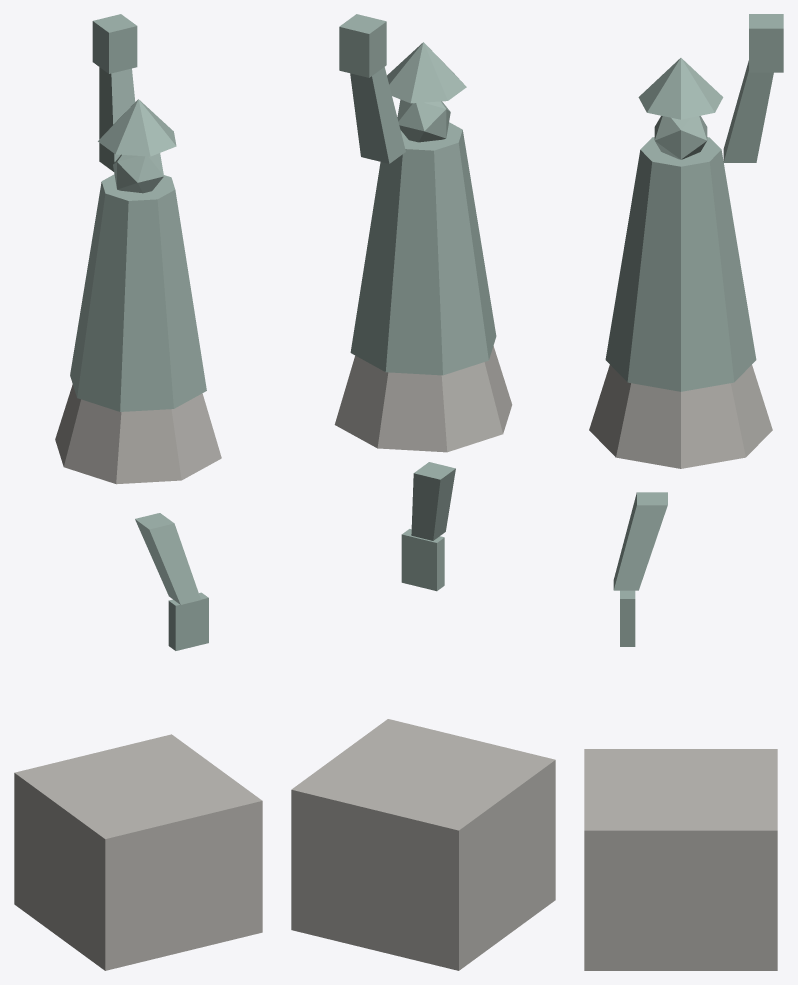
3 renders of one model, left to right at view 1: azimuth 30°, elevation 25°; view 2: azimuth 150°, elevation 25°; view 3: azimuth 270°, elevation 25°, orthographic. The views are drawn at different scales.
Visible parts, largest first — view 1: part0, part2, part1, part7, part4, part6, part5, part8, part3; view 2: part0, part2, part1, part5, part4, part7, part6, part8, part3; view 3: part0, part2, part1, part4, part7, part5, part6, part3, part8.
Boxes of the visible parts, x1,y1,x2,y2 form: part0: (14,734,262,970); part2: (70,174,206,411); part1: (55,384,221,484); part7: (135,513,200,604); part4: (98,99,176,156); part6: (92,14,137,73); part5: (99,67,135,171); part8: (168,592,208,650); part3: (113,153,163,193); part0: (291,719,555,970); part2: (350,122,496,375); part1: (334,346,512,452); part5: (350,67,405,163); part4: (387,42,466,103); part7: (411,462,455,540); part6: (339,14,386,77); part8: (401,529,444,591); part3: (397,99,450,142); part0: (584,749,777,970); part2: (605,137,756,391); part1: (589,365,772,468); part4: (638,58,723,119); part7: (613,492,667,590); part5: (723,60,773,162); part6: (749,14,783,72); part3: (654,116,707,159); part8: (620,590,635,646).
Bounding box in the file's own units: 2 × 10.46 × 2.06.
